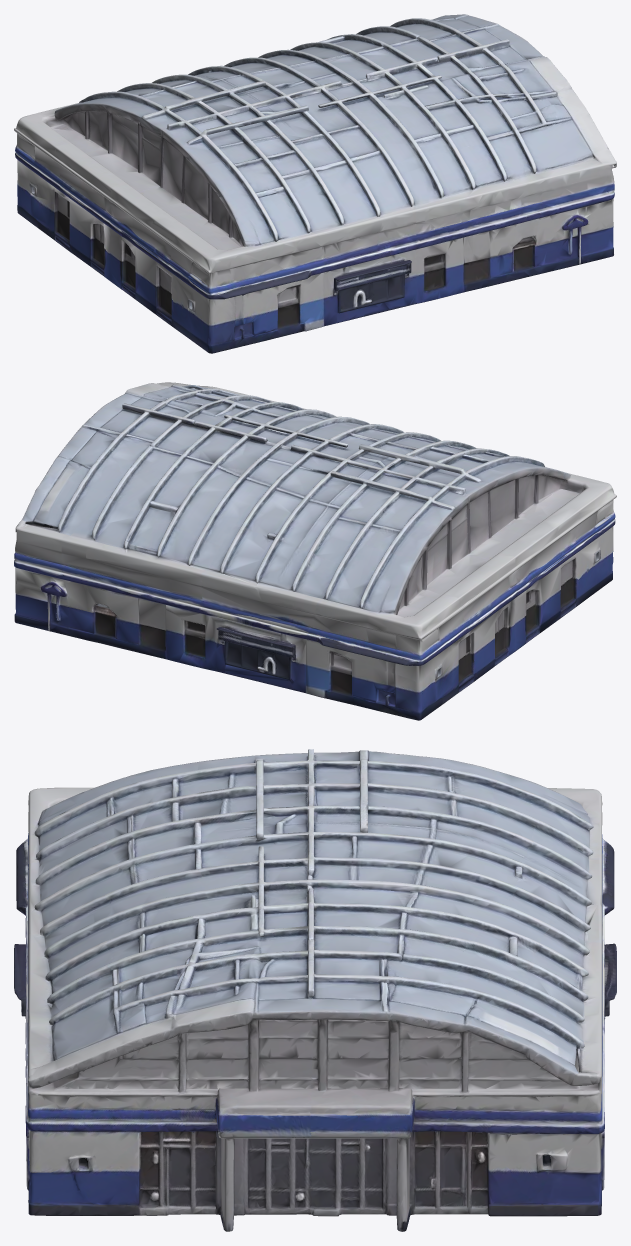
Rendered from sports-hall.glb.
3 renders of one model, top to bottom at view 1: azimuth 30°, elevation 25°; view 2: azimuth 150°, elevation 25°; view 3: azimuth 270°, elevation 25°, orthographic. The views are drawn at different scales.
Parts seen in each view (by area): view 1: tripo_node_7fee053a-b3df-42a0-8ec0-e59c7ed7ed2f; view 2: tripo_node_7fee053a-b3df-42a0-8ec0-e59c7ed7ed2f; view 3: tripo_node_7fee053a-b3df-42a0-8ec0-e59c7ed7ed2f.
Part boxes in pixels (x1,y1,x2,y2): tripo_node_7fee053a-b3df-42a0-8ec0-e59c7ed7ed2f: (14,14,616,353); tripo_node_7fee053a-b3df-42a0-8ec0-e59c7ed7ed2f: (14,382,616,720); tripo_node_7fee053a-b3df-42a0-8ec0-e59c7ed7ed2f: (14,749,616,1231).
Size of the model in its own units: 0.9998 by 0.3307 by 0.8234.
1 material, 1 textured.
